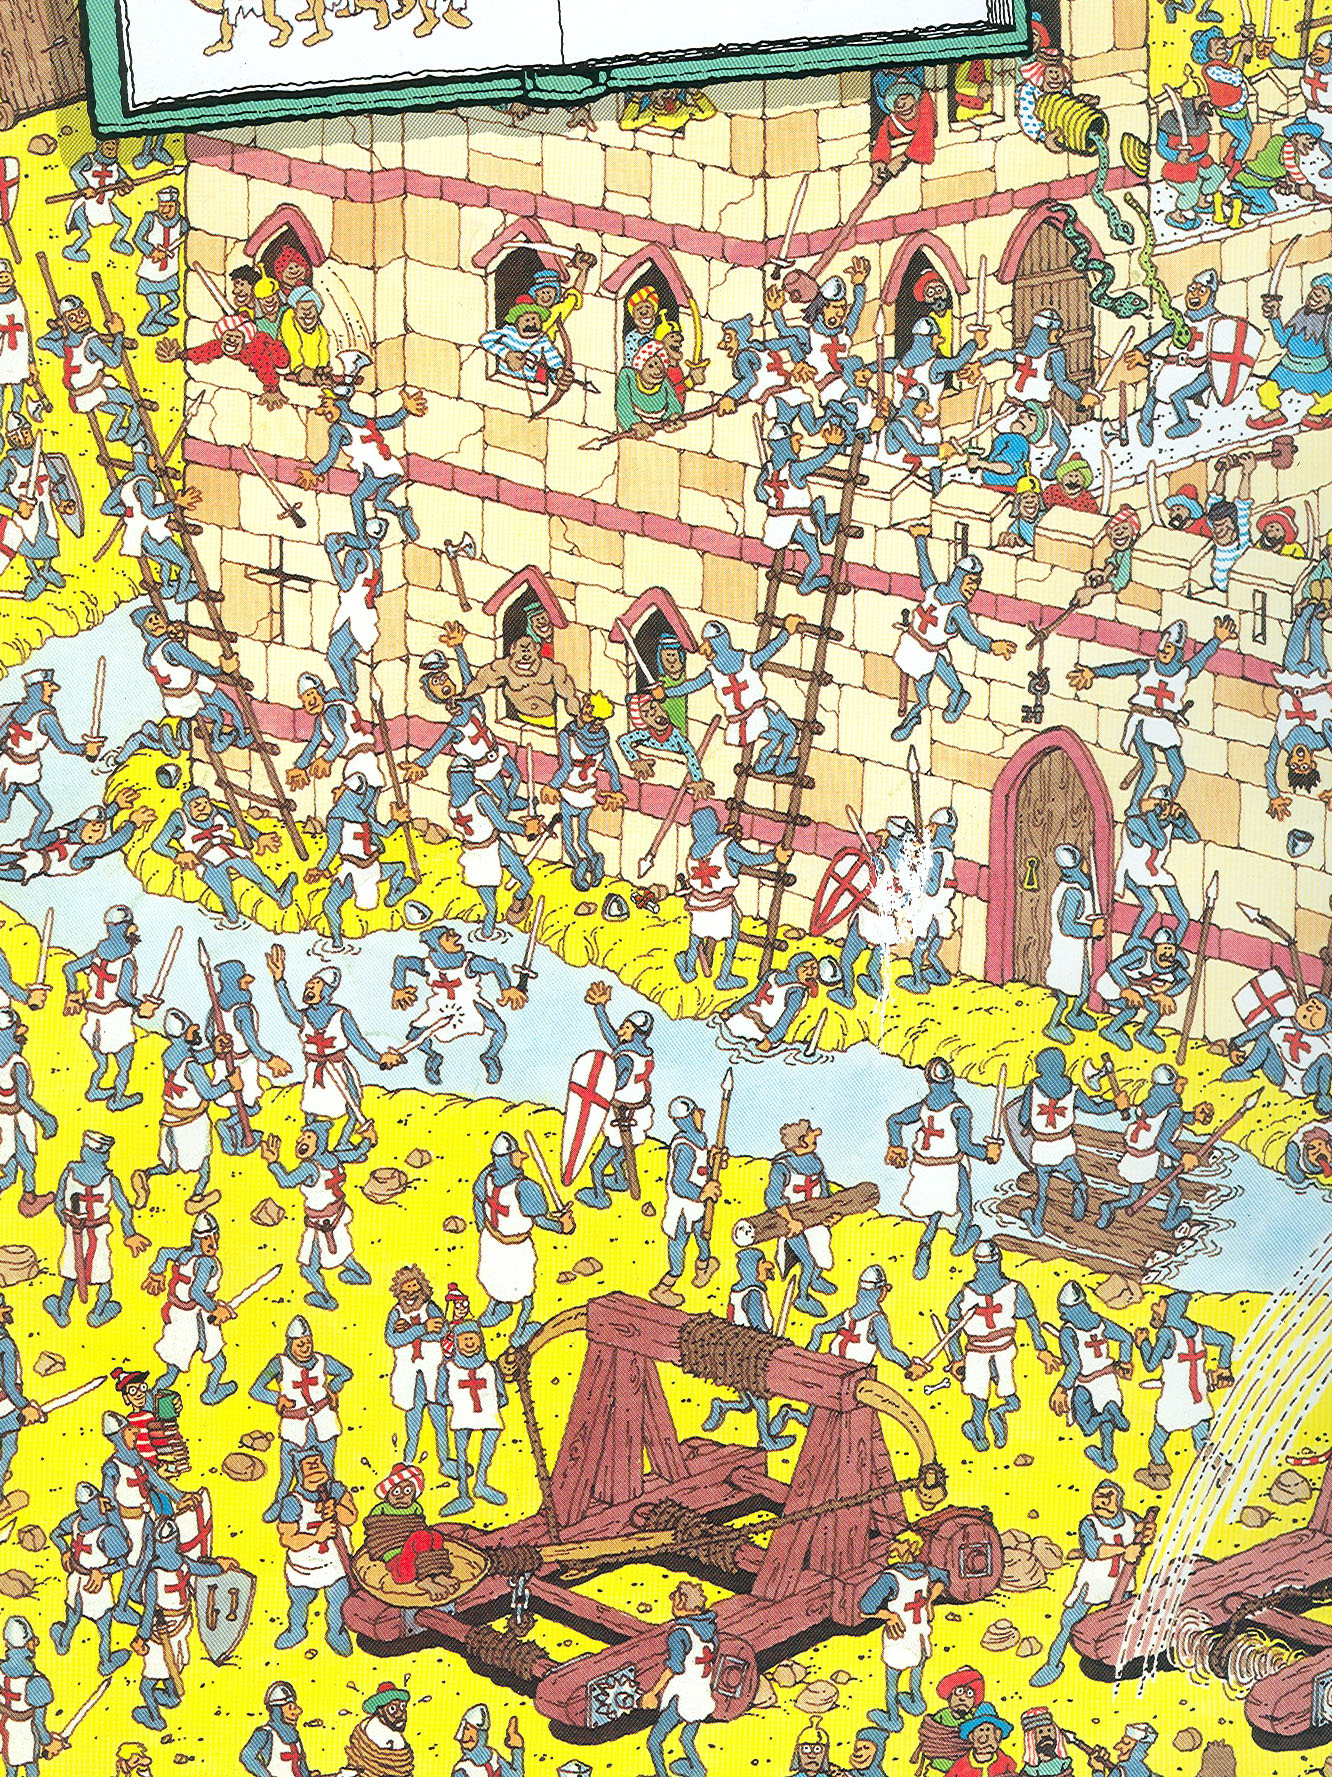waldo: (112, 1363, 155, 1415)
